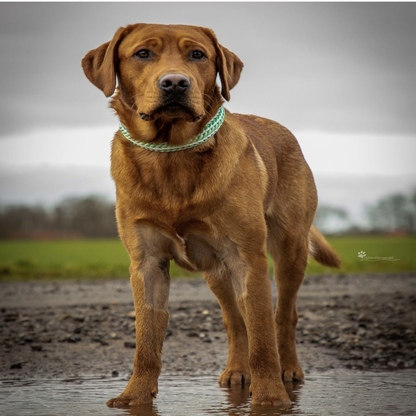labrado: (79, 17, 346, 416)
